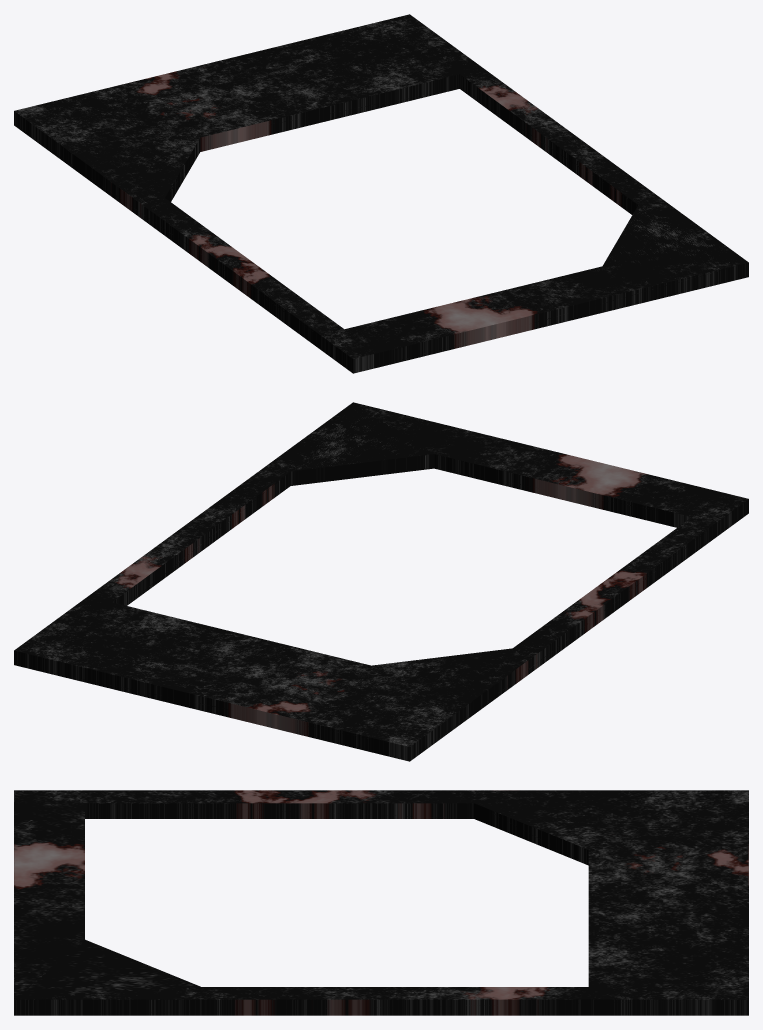
The model's file is datapad.glb.
3 renders of one model, top to bottom at view 1: azimuth 30°, elevation 25°; view 2: azimuth 150°, elevation 25°; view 3: azimuth 270°, elevation 25°, orthographic. The views are drawn at different scales.
Visible parts, largest first — view 1: Plane.002; view 2: Plane.002; view 3: Plane.002.
Boxes of the visible parts, bbox=[...] form: Plane.002: bbox=[14, 14, 748, 373]; Plane.002: bbox=[14, 402, 748, 761]; Plane.002: bbox=[14, 790, 748, 1015].
Size of the model in its own units: 2 by 0.0701 by 2.97.
Materials: 1 (1 with a texture image).
